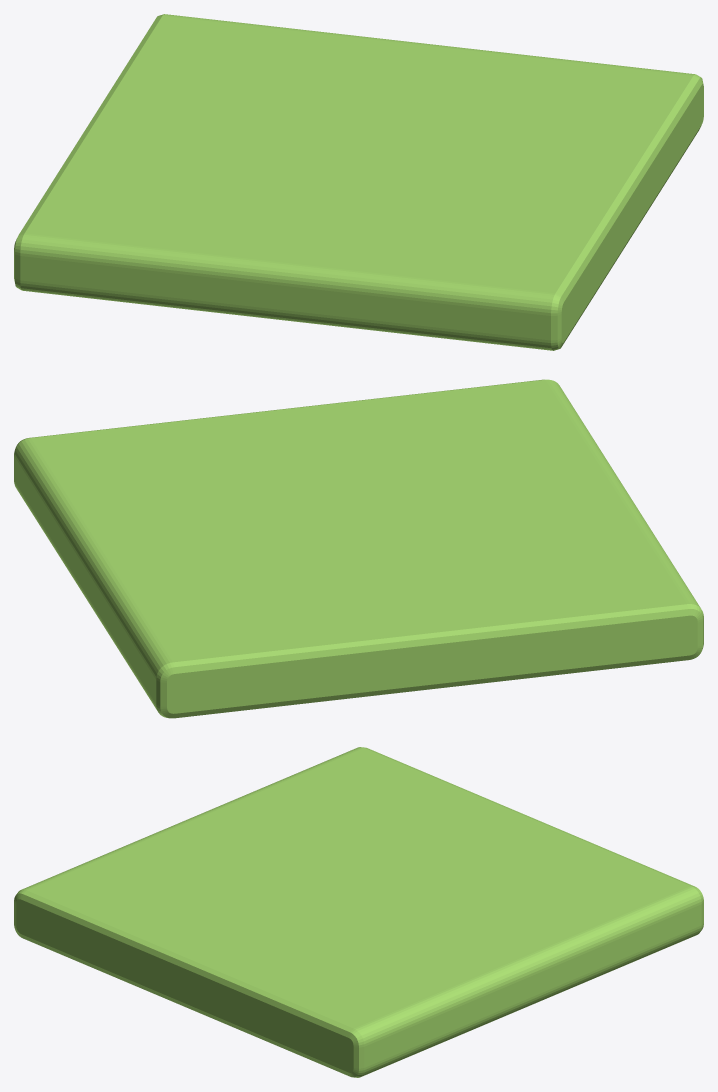
The model's file is ground_diamond.glb.
3 views of the same model, one above another, from view 1: azimuth 30°, elevation 25°; view 2: azimuth 150°, elevation 25°; view 3: azimuth 270°, elevation 25° (orthographic). The views are drawn at different scales.
Visible parts, largest first — view 1: GroundDiamond; view 2: GroundDiamond; view 3: GroundDiamond.
Boxes of the visible parts, bbox=[...] form: GroundDiamond: bbox=[14, 14, 703, 350]; GroundDiamond: bbox=[14, 379, 703, 718]; GroundDiamond: bbox=[14, 747, 703, 1077].
Size of the model in its own units: 1.45 by 0.112 by 1.45.
